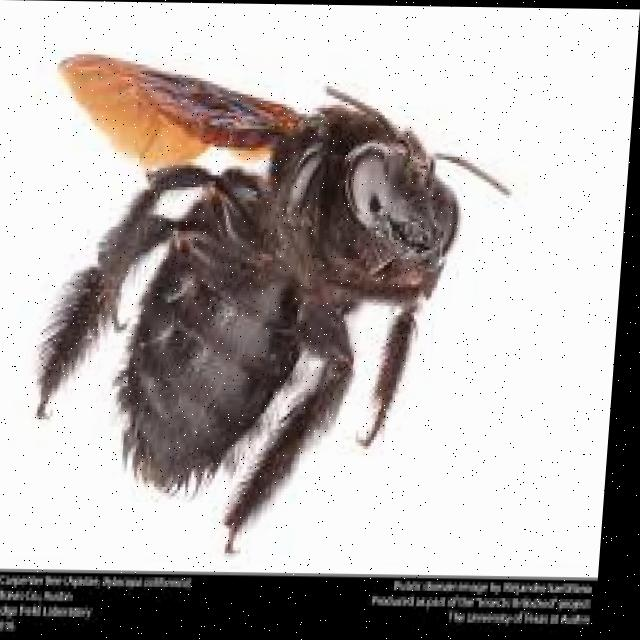Xylocopa: (22, 26, 500, 532)
